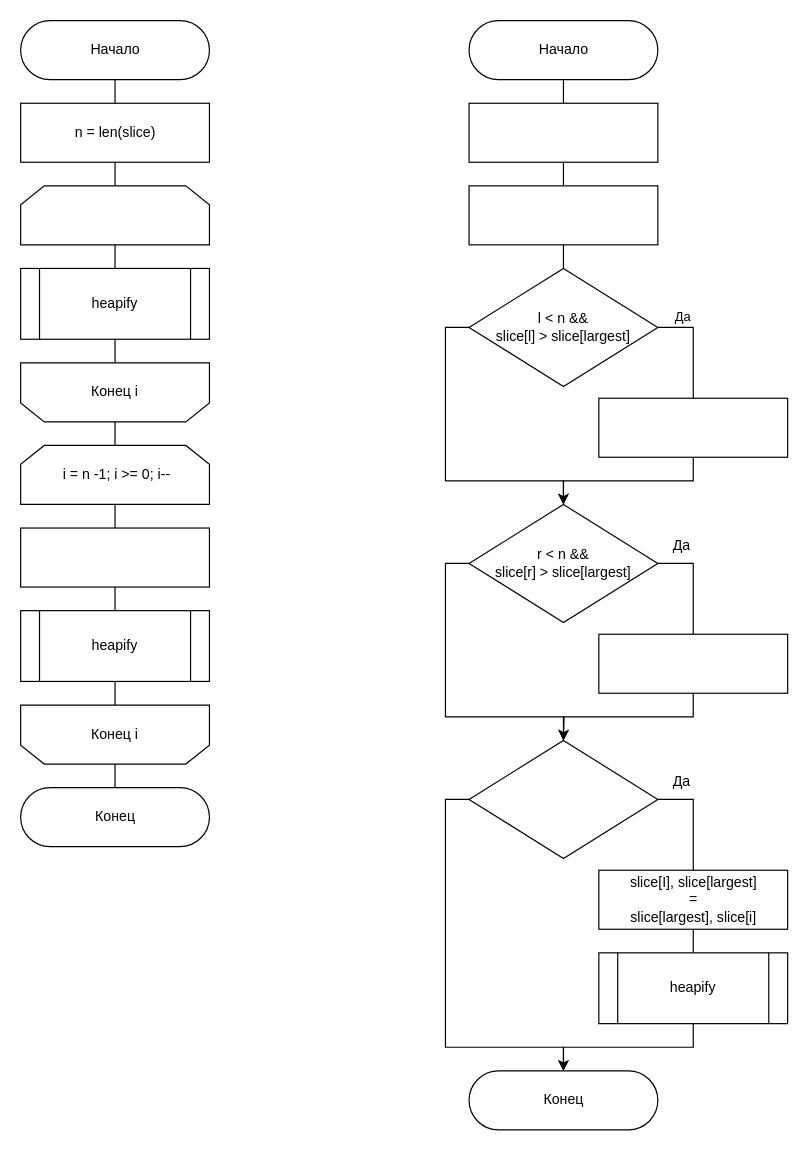
Some shapes in this 808 by 1151 pixel diagram are drawn without their labels. Each missing label, with the centre of its shape:
"i = n / 2 -1; i >= 0; i--" belongs at [114,215].
"l = 2 * i + 1 r = 2 * i + 2" belongs at [563,215].
"largest != i" belongs at [563,798].
"largest = i" belongs at [563,132].
"largest = l" belongs at [693,427].
"largest = r" belongs at [693,663].
"slice[i], slice[0] = slice[0], slice[i]" belongs at [114,557].
